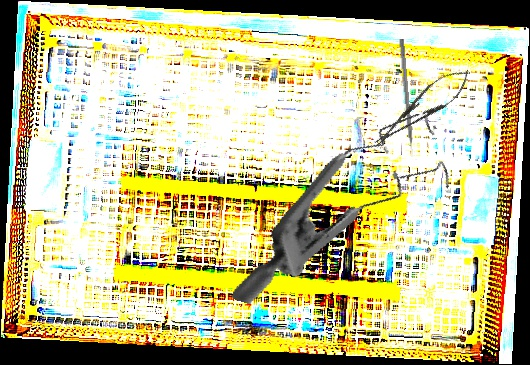Hook Surgical: (397, 38, 415, 158)
Needle Holder: (366, 59, 478, 156)
Speculum: (231, 75, 468, 354)
